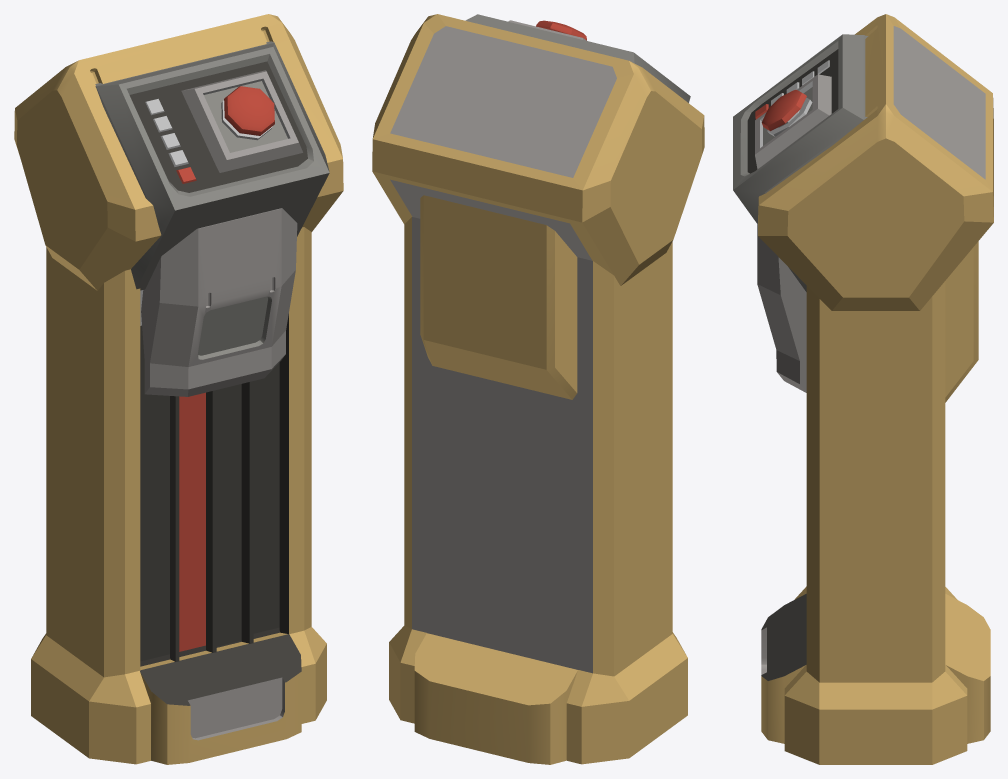
File: red_button.glb
3 views of the same model, side by side, from view 1: azimuth 30°, elevation 25°; view 2: azimuth 150°, elevation 25°; view 3: azimuth 270°, elevation 25° (orthographic). The views are drawn at different scales.
Visible parts, largest first — view 1: polySurface47; view 2: polySurface47; view 3: polySurface47.
Boxes of the visible parts, x1,y1,x2,y2 form: polySurface47: [14, 14, 343, 764]; polySurface47: [372, 14, 704, 764]; polySurface47: [733, 14, 993, 764].
Bounding box in the file's own units: 1.13 × 3.06 × 1.11.
